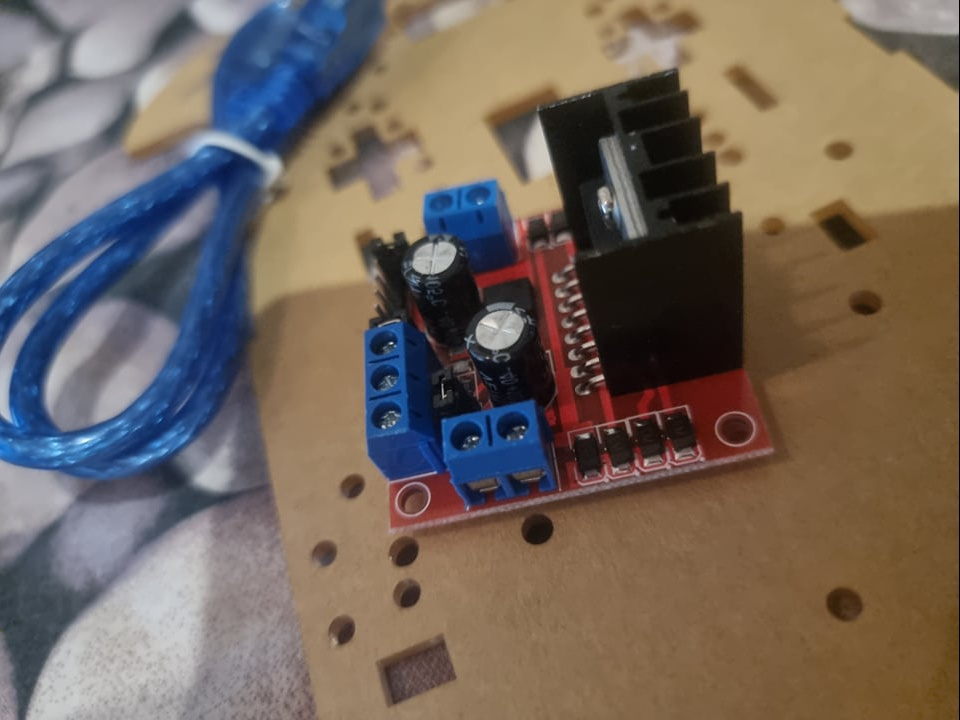MOTOR: (362, 64, 783, 536)
